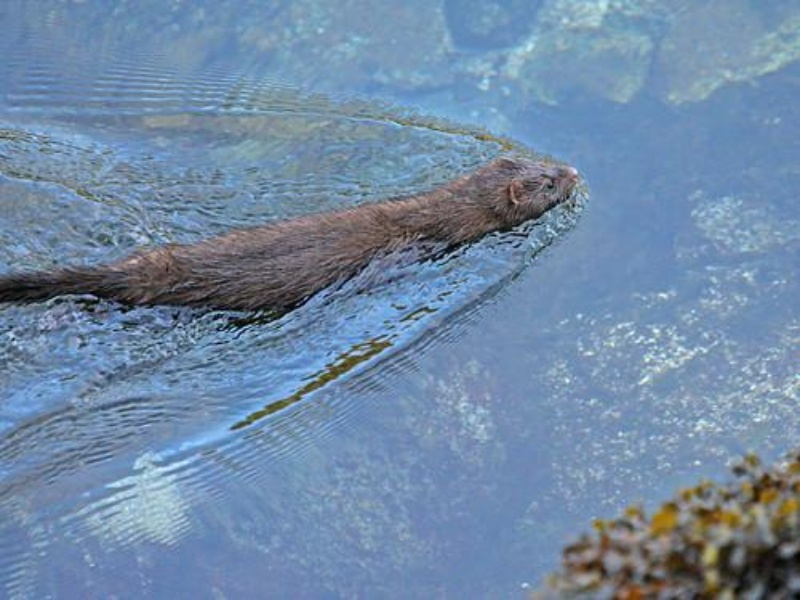minkish: (7, 149, 583, 333)
